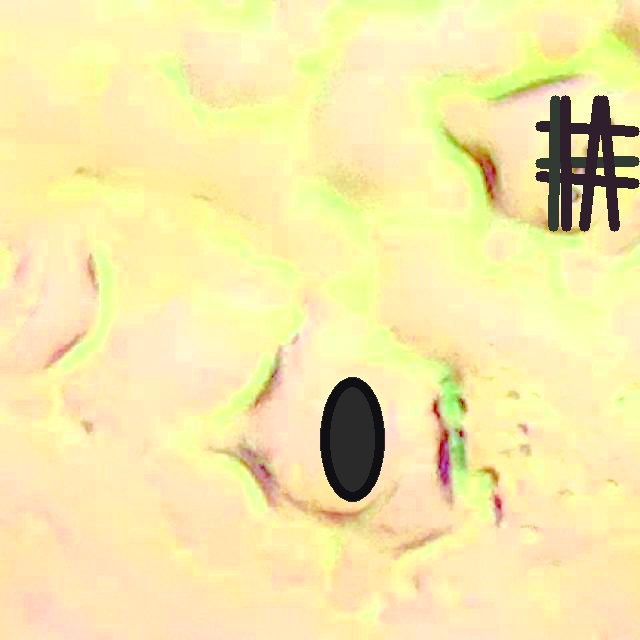close: (536, 95, 638, 231), (321, 377, 384, 501)
